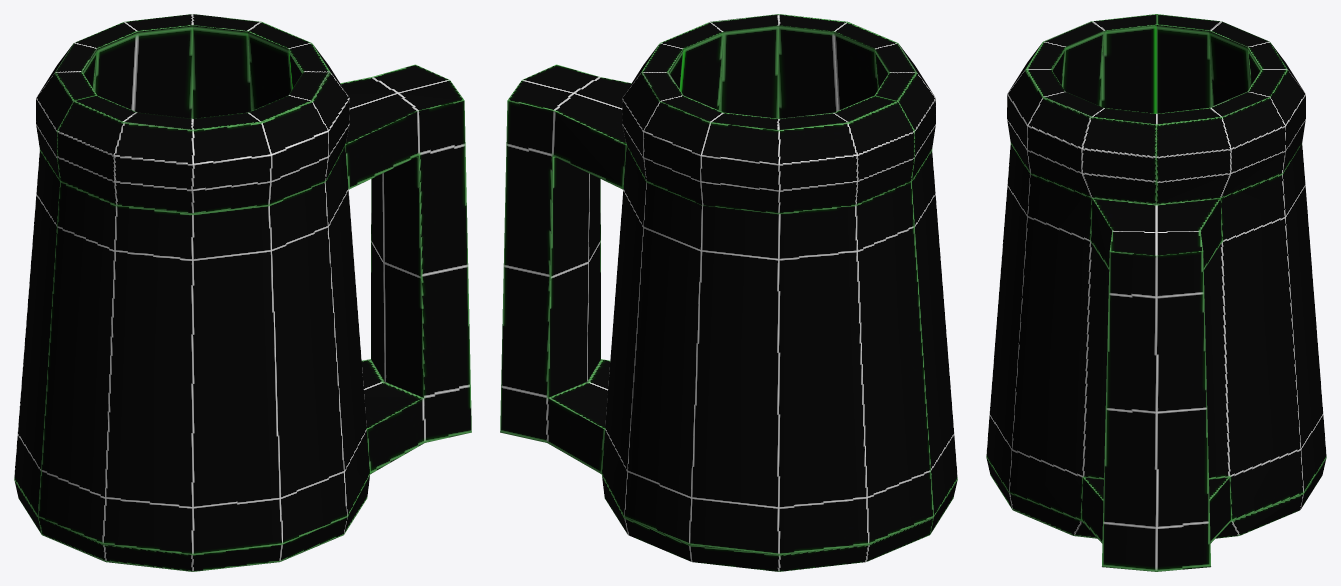
The model's file is tankard.FBX.
3 renders of one model, left to right at view 1: azimuth 30°, elevation 25°; view 2: azimuth 150°, elevation 25°; view 3: azimuth 270°, elevation 25°, orthographic. The views are drawn at different scales.
Parts seen in each view (by area): view 1: Cylinder001; view 2: Cylinder001; view 3: Cylinder001.
Boxes of the visible parts, bbox=[...] form: Cylinder001: bbox=[14, 14, 471, 571]; Cylinder001: bbox=[500, 14, 957, 571]; Cylinder001: bbox=[986, 14, 1326, 571].
Size of the model in its own units: 44.77 by 43.87 by 33.36.
